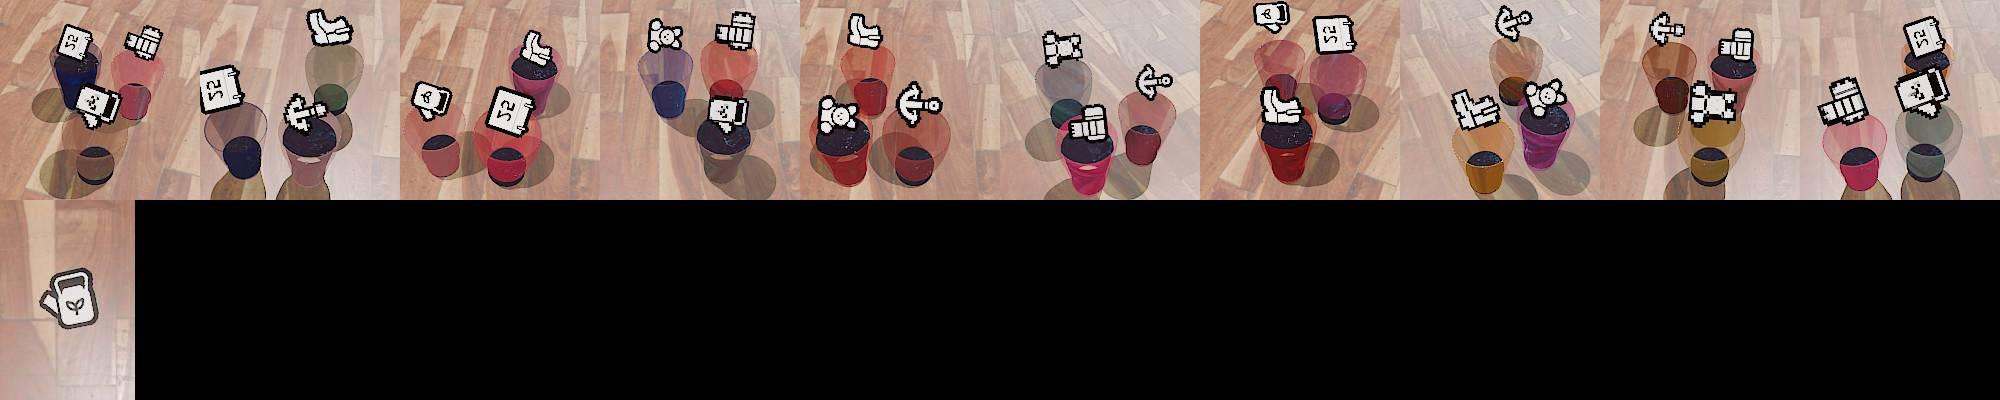icon: (38, 266, 102, 334), (1816, 76, 1871, 127), (485, 85, 537, 138), (1894, 68, 1948, 117), (198, 64, 245, 116), (1686, 79, 1737, 126), (895, 80, 944, 127), (73, 83, 122, 129), (1450, 87, 1501, 130), (1520, 76, 1570, 118), (1903, 15, 1948, 61), (1260, 84, 1305, 127), (714, 10, 759, 52), (1065, 102, 1111, 143), (283, 92, 328, 132), (306, 8, 352, 47), (411, 79, 453, 121), (1311, 15, 1355, 56), (818, 96, 861, 136), (707, 94, 747, 135), (1043, 28, 1084, 68), (518, 28, 556, 69), (124, 23, 165, 61), (56, 23, 94, 62), (846, 11, 884, 50), (1135, 62, 1173, 101), (647, 17, 686, 54), (1494, 5, 1533, 42), (1648, 10, 1686, 46), (1717, 27, 1755, 62), (1253, 1, 1291, 34)
